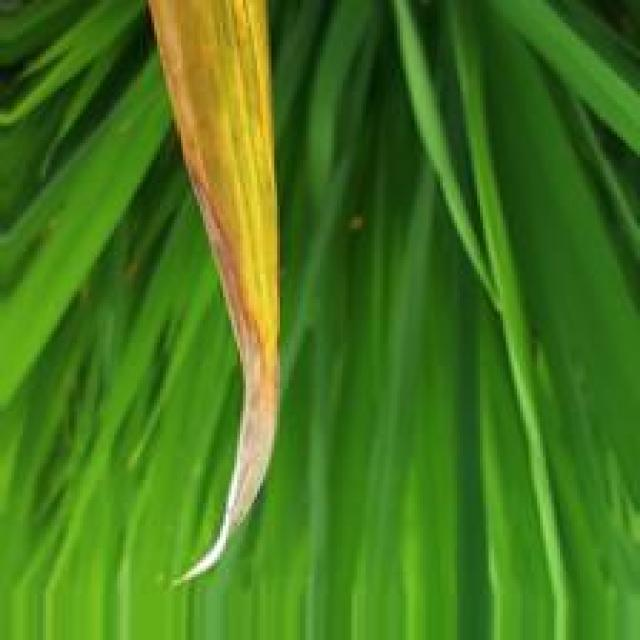Leaf_Scald: (168, 107, 275, 594)
